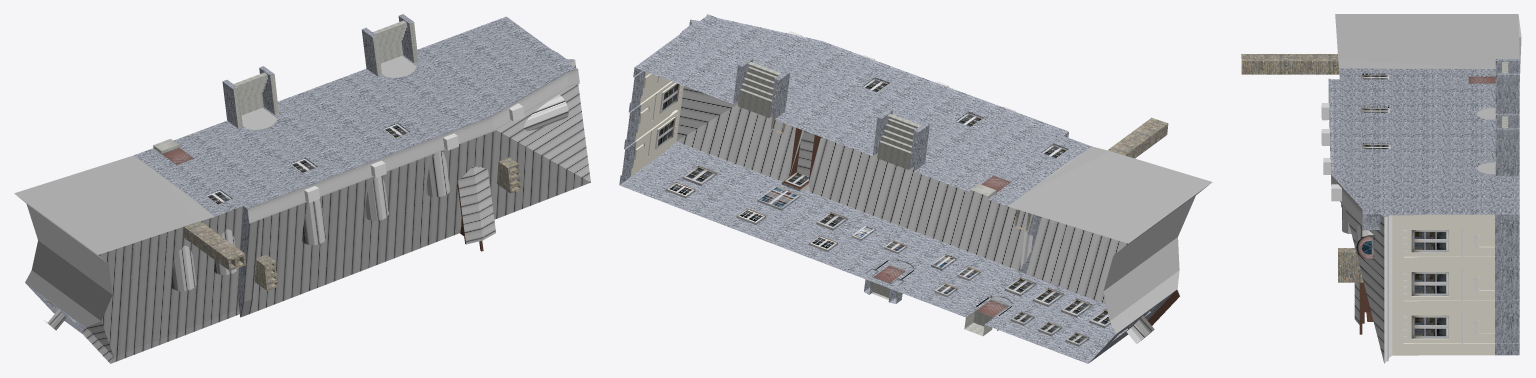
The model's file is Bremeni-kaik_1.obj.
3 renders of one model, left to right at view 1: azimuth 30°, elevation 25°; view 2: azimuth 150°, elevation 25°; view 3: azimuth 270°, elevation 25°, orthographic. The views are drawn at different scales.
Visible parts, largest first — view 1: brk1, xxx; view 2: brk1, xxx; view 3: brk1, xxx.
Part boxes in pixels (<box>): brk1: <box>25,14,590,363</box>; xxx: <box>14,155,214,332</box>; brk1: <box>619,14,1179,363</box>; xxx: <box>1008,146,1212,333</box>; brk1: <box>1241,54,1519,363</box>; xxx: <box>1335,14,1521,81</box>.
Bounding box in the file's own units: 39.76 × 16.24 × 17.18.
